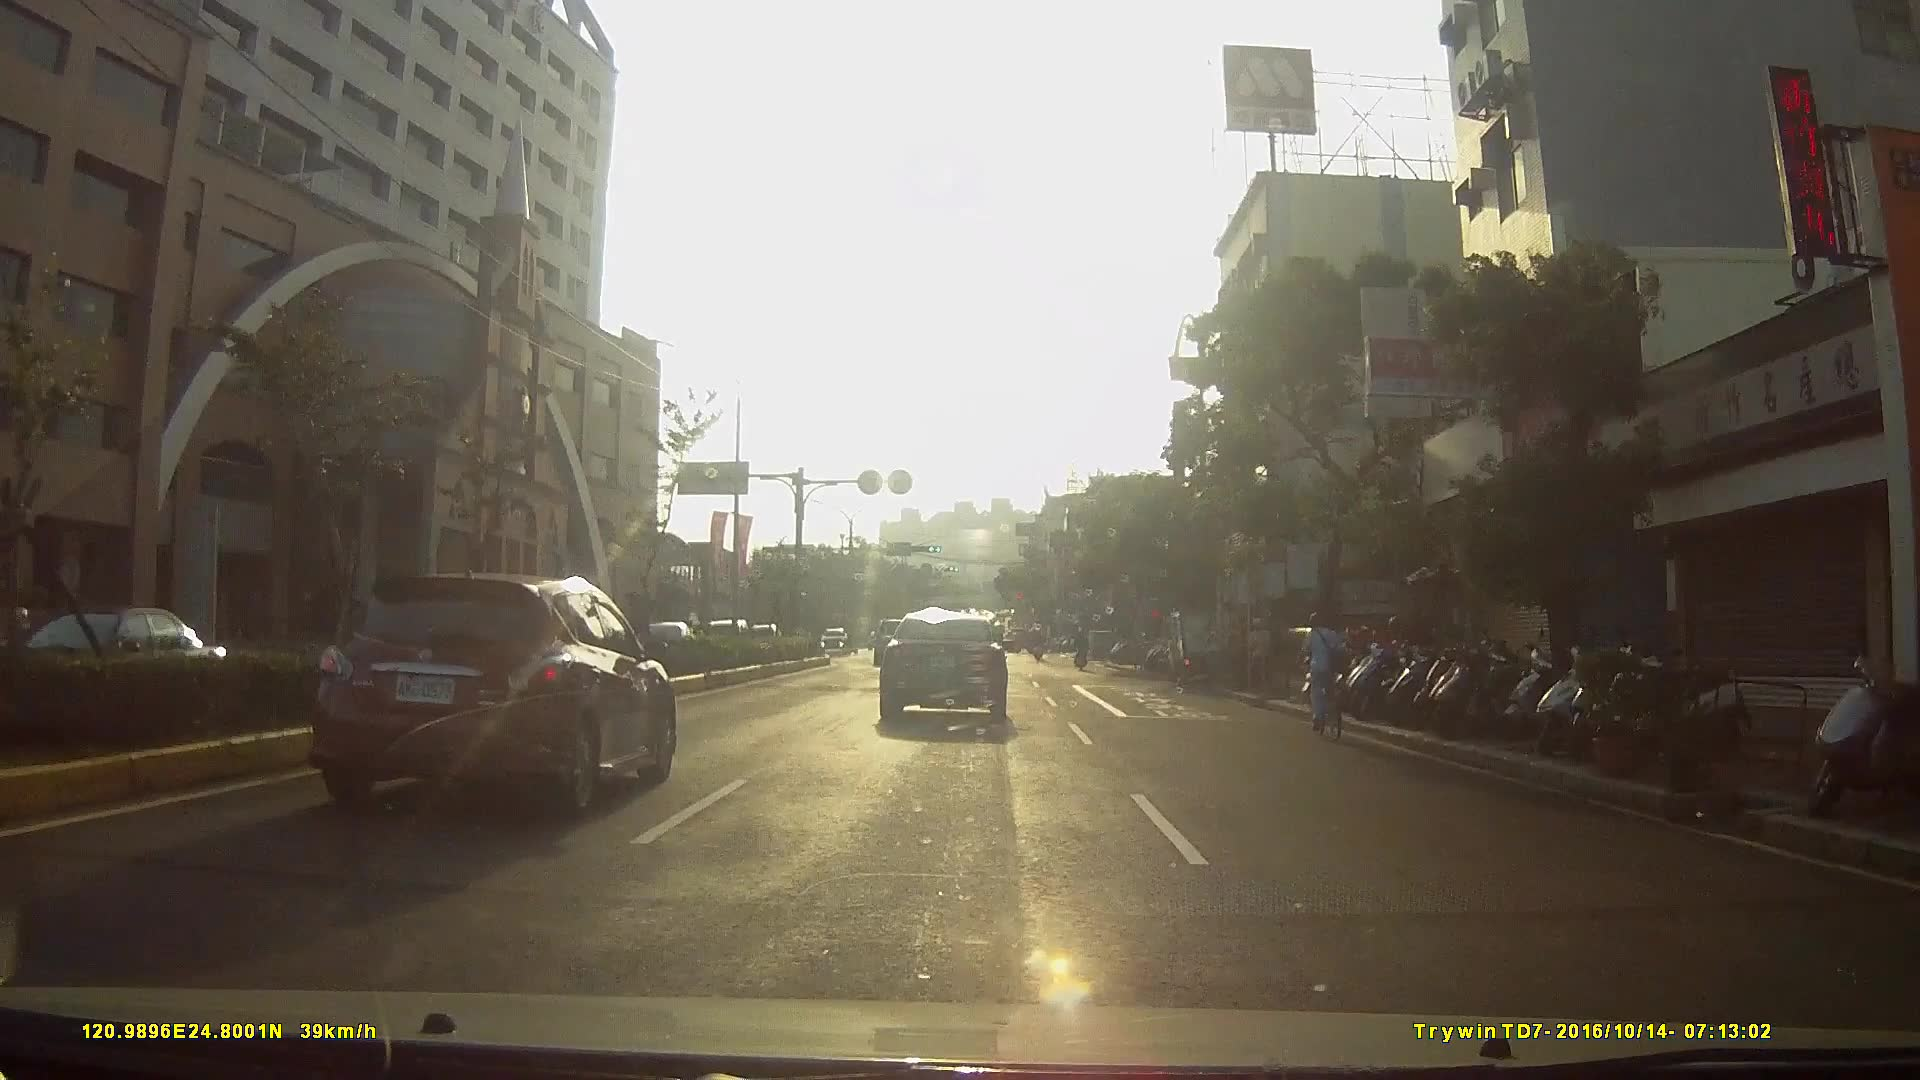pedestrian: (1245, 615, 1277, 699)
rider: (1296, 612, 1355, 743)
vehicle: (303, 566, 690, 819), (873, 609, 1020, 740), (1165, 603, 1246, 687), (763, 607, 822, 662)
